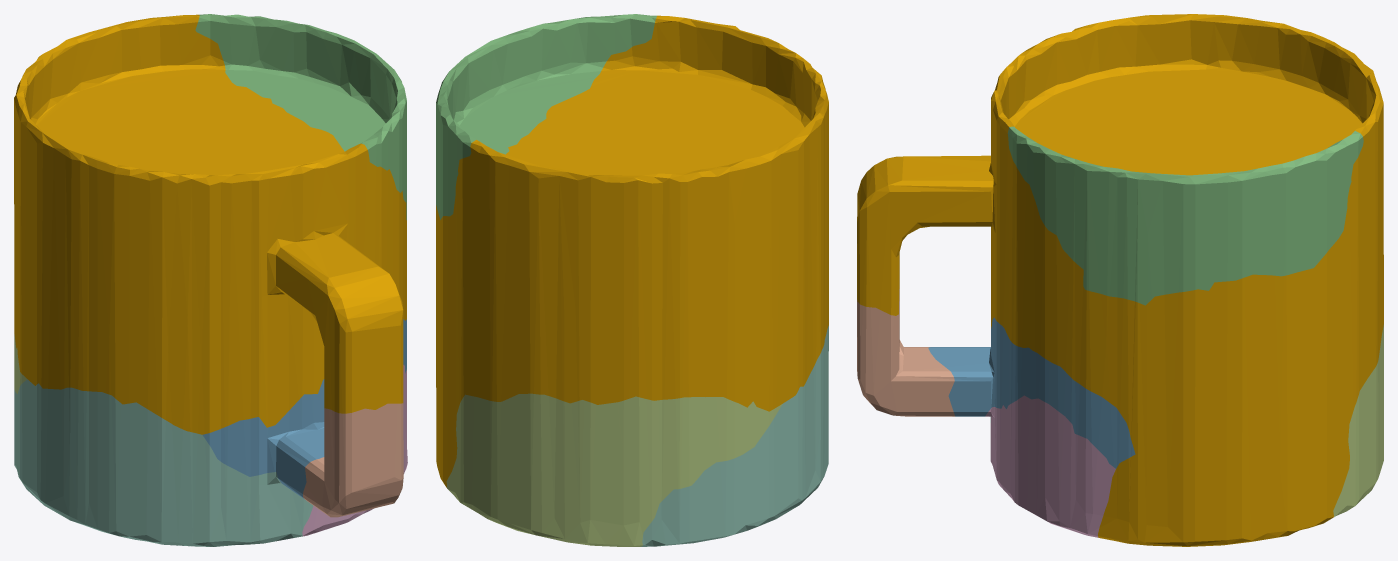
Rendered from mode_16_8pcs.glb.
3 views of the same model, side by side, from view 1: azimuth 30°, elevation 25°; view 2: azimuth 150°, elevation 25°; view 3: azimuth 270°, elevation 25° (orthographic).
Parts seen in each view (by area): view 1: piece_0.obj, piece_4.obj, piece_3.obj, piece_7.obj, piece_2.obj, piece_6.obj; view 2: piece_0.obj, piece_5.obj, piece_3.obj, piece_4.obj; view 3: piece_0.obj, piece_3.obj, piece_6.obj, piece_2.obj, piece_7.obj, piece_5.obj.
Boxes of the visible parts, bbox=[...] form: piece_0.obj: bbox=[14, 14, 406, 434]; piece_4.obj: bbox=[14, 379, 313, 546]; piece_3.obj: bbox=[195, 14, 406, 220]; piece_7.obj: bbox=[303, 403, 403, 517]; piece_2.obj: bbox=[202, 319, 406, 499]; piece_6.obj: bbox=[302, 365, 407, 536]; piece_0.obj: bbox=[436, 15, 828, 488]; piece_5.obj: bbox=[446, 393, 782, 546]; piece_3.obj: bbox=[436, 14, 656, 219]; piece_4.obj: bbox=[641, 325, 828, 546]; piece_0.obj: bbox=[857, 14, 1383, 546]; piece_3.obj: bbox=[1007, 126, 1363, 305]; piece_6.obj: bbox=[985, 395, 1115, 537]; piece_2.obj: bbox=[928, 317, 1135, 468]; piece_7.obj: bbox=[857, 289, 954, 416]; piece_5.obj: bbox=[1333, 325, 1383, 516].
Size of the model in its own units: 0.7449 by 0.7817 by 1.
